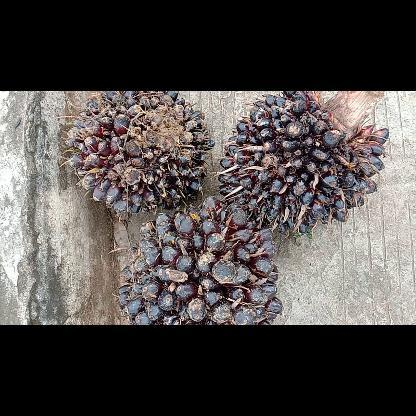TBS mentah: (216, 91, 392, 237), (115, 194, 286, 324), (60, 91, 216, 221)
